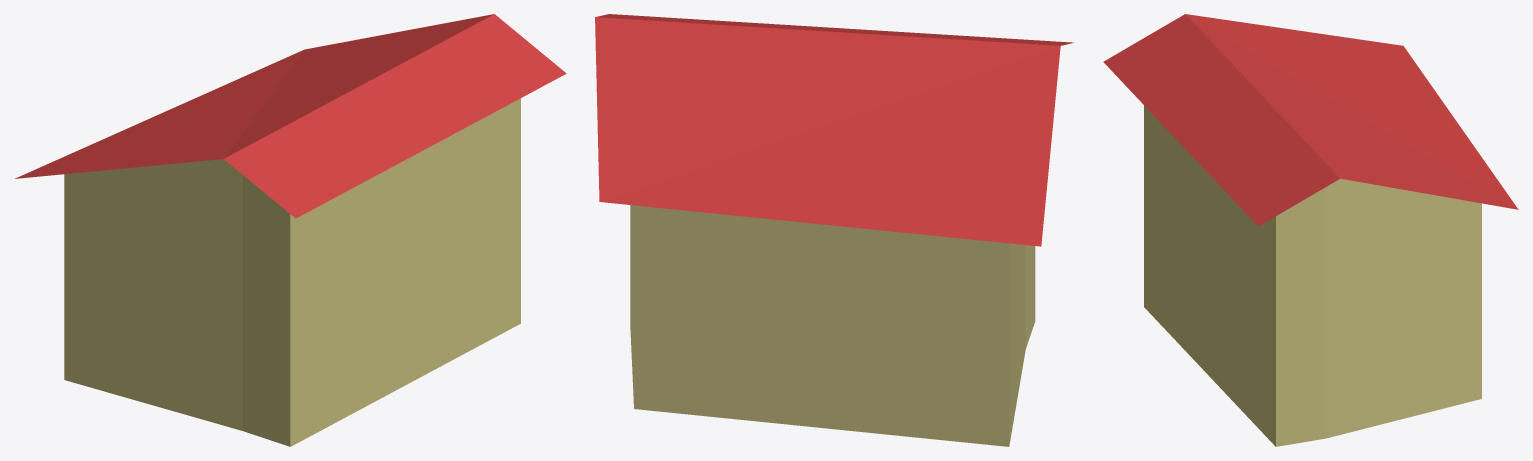
3 views of the same model, side by side, from view 1: azimuth 30°, elevation 25°; view 2: azimuth 150°, elevation 25°; view 3: azimuth 270°, elevation 25° (orthographic). The views are drawn at different scales.
Bounding box in the file's own units: 12.67 × 9.96 × 7.18.
